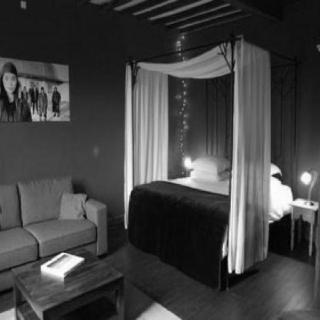other: (176, 81, 193, 176)
